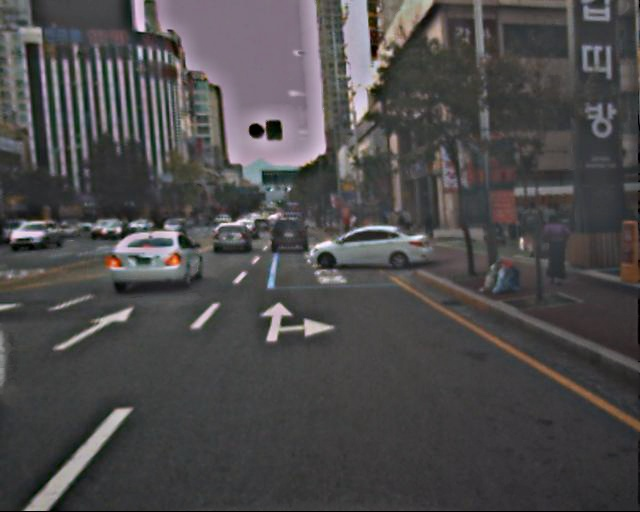person: (539, 211, 571, 289), (520, 201, 544, 259), (422, 210, 434, 240), (401, 207, 412, 234)
